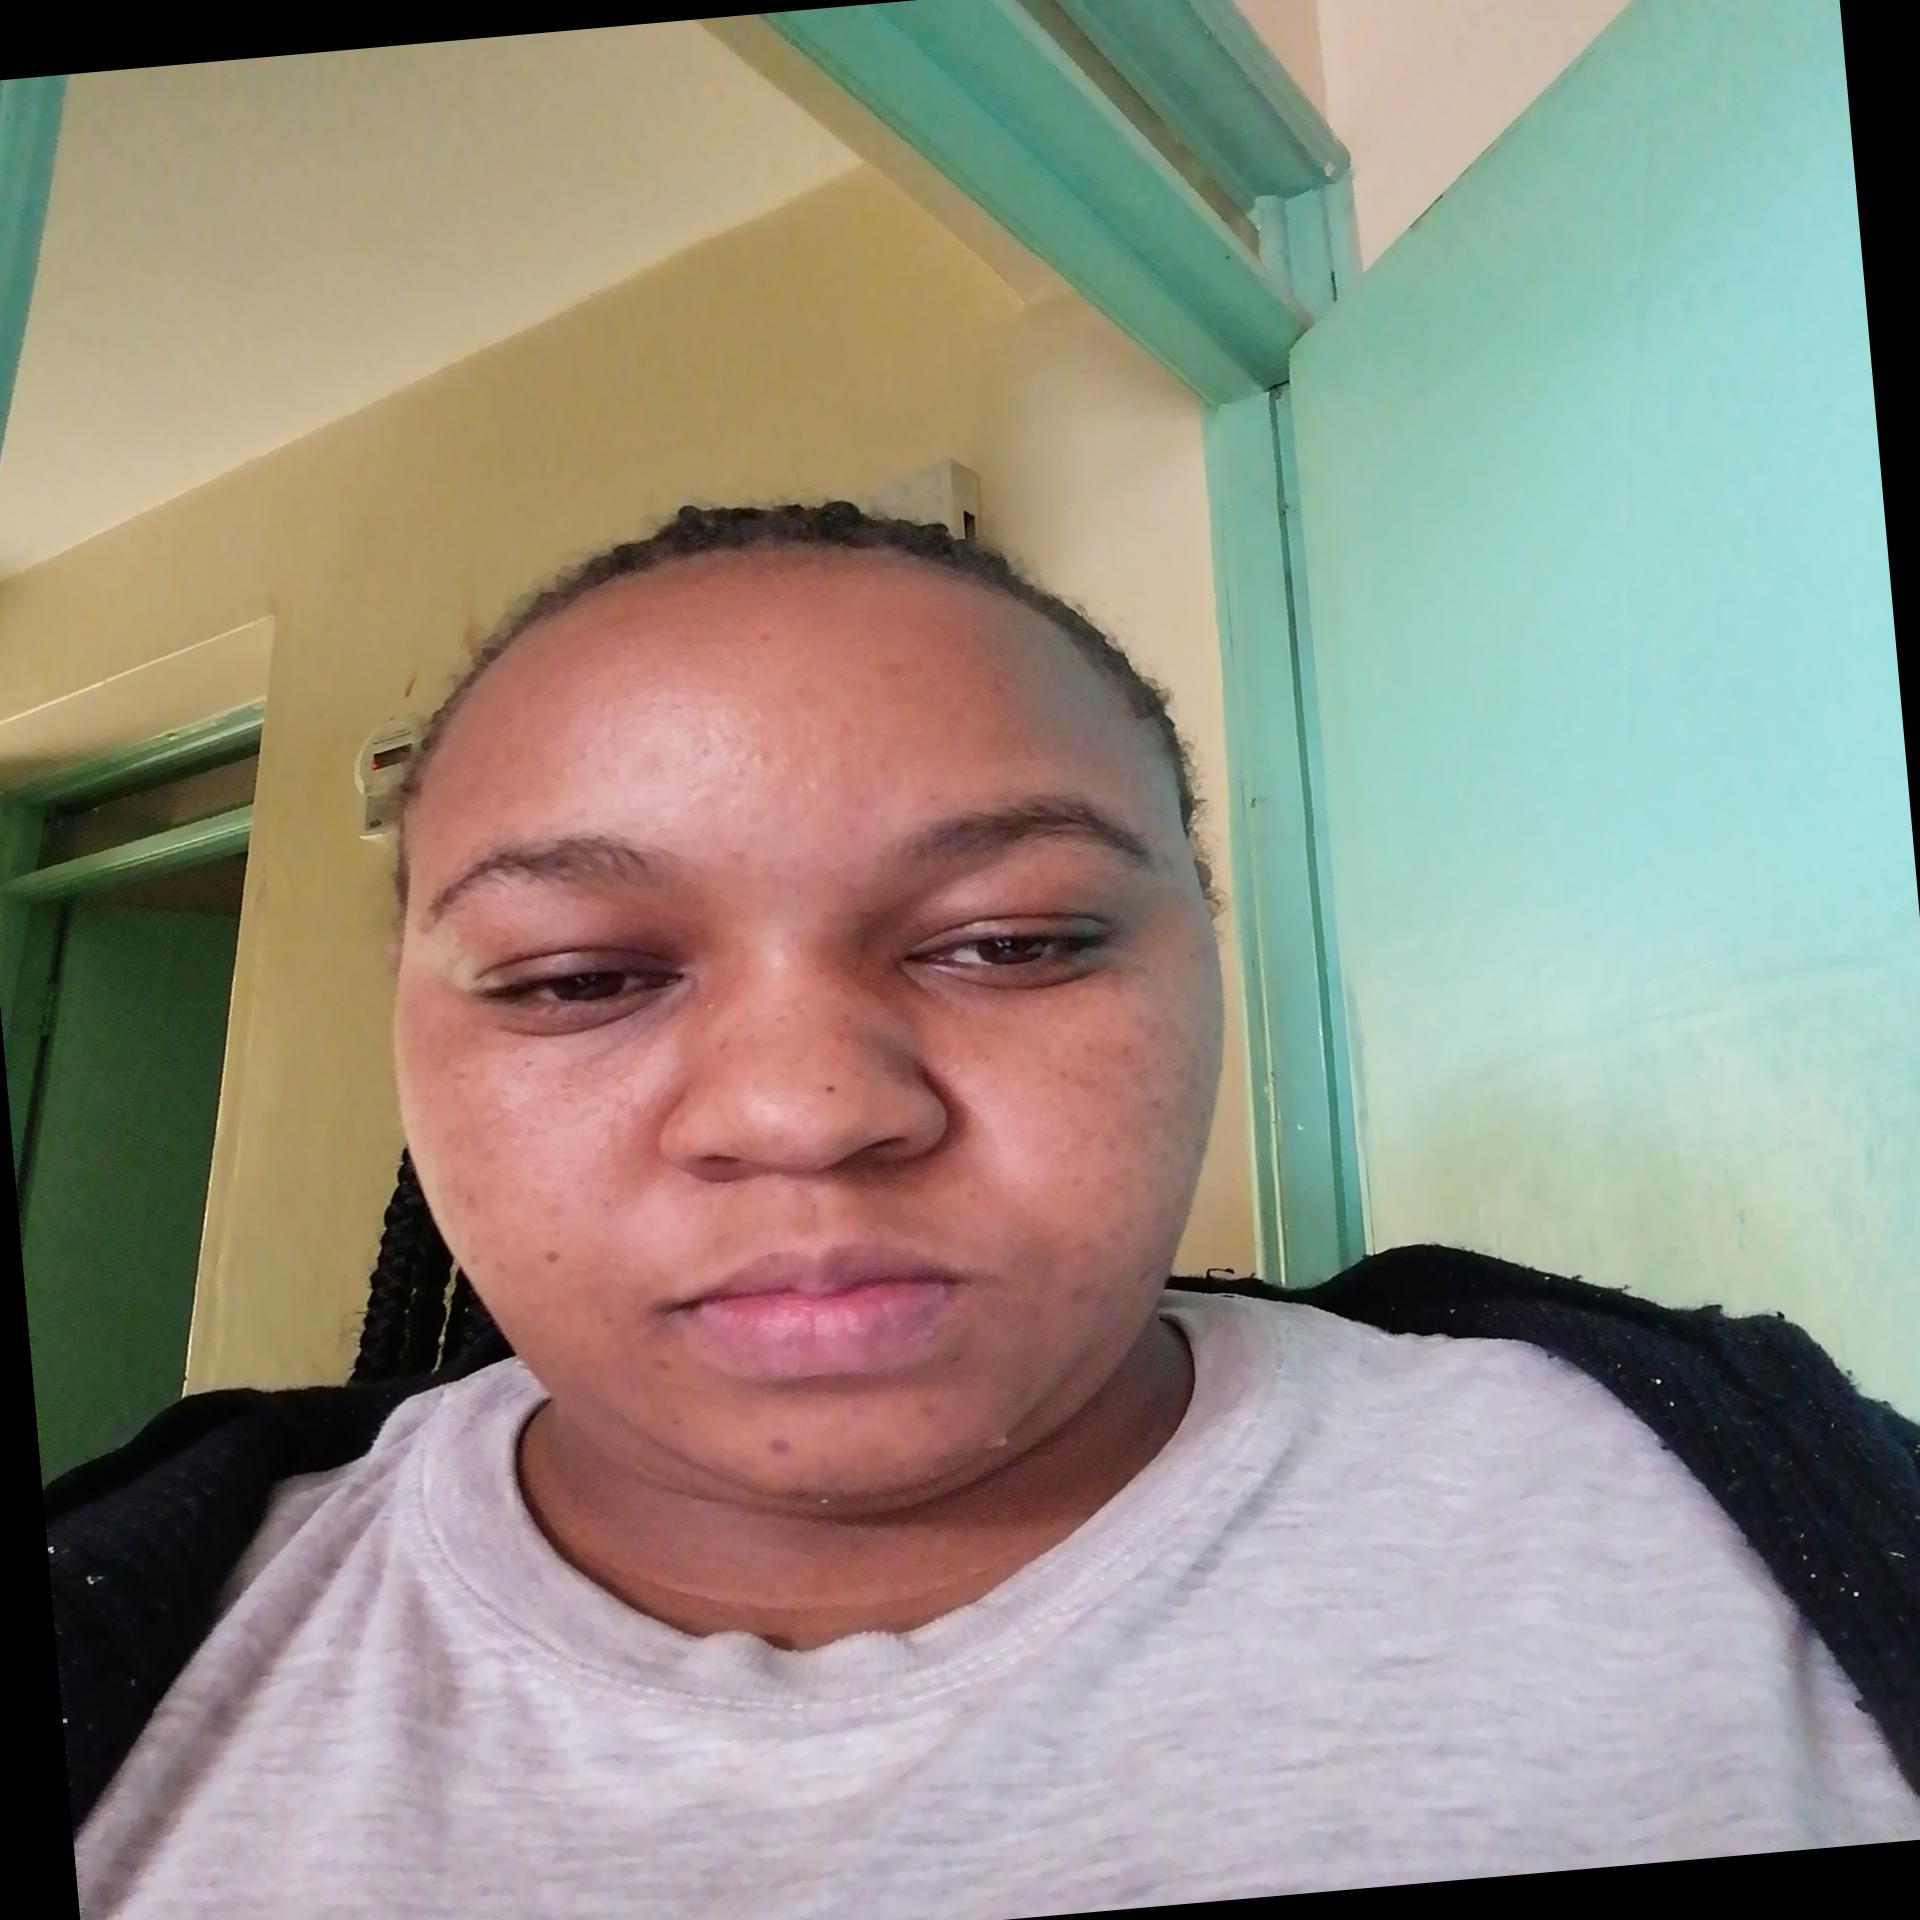Acne: (1060, 1162, 1143, 1222), (1051, 1108, 1127, 1152), (723, 742, 775, 793), (1078, 1222, 1141, 1264), (1136, 1060, 1171, 1115), (1148, 1007, 1194, 1048), (895, 1393, 944, 1426), (1176, 1053, 1210, 1101), (677, 772, 717, 805), (983, 1426, 1022, 1458), (761, 1431, 800, 1463), (501, 1124, 543, 1152), (642, 1347, 675, 1378), (721, 840, 756, 869), (455, 1187, 485, 1218), (1087, 1285, 1118, 1312), (791, 777, 826, 798), (491, 1255, 520, 1280), (591, 1125, 615, 1153), (450, 1067, 473, 1097), (747, 702, 774, 724), (1134, 1262, 1160, 1285), (1051, 1062, 1078, 1085), (1115, 1036, 1136, 1060), (538, 1247, 563, 1268), (1064, 1284, 1081, 1303), (728, 796, 751, 811)
Dark Circles: (900, 935, 1136, 1020), (484, 972, 700, 1057)
